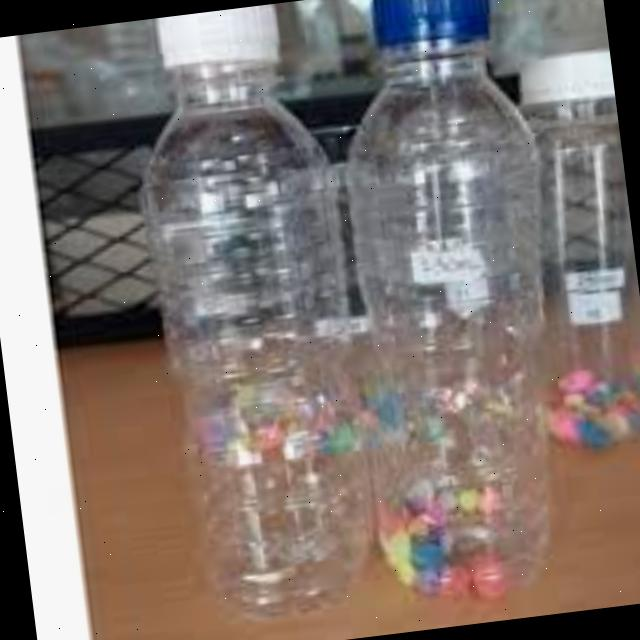trash: (303, 0, 609, 615), (106, 0, 386, 637)
